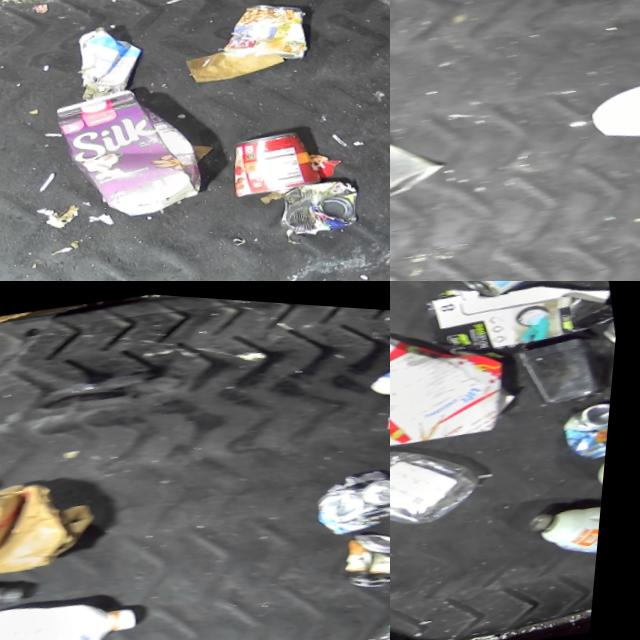can: (226, 115, 329, 196), (275, 163, 371, 236), (214, 0, 316, 67), (312, 451, 390, 533), (335, 511, 390, 589), (560, 386, 617, 456), (448, 281, 574, 298), (371, 345, 390, 434)
non_white_jug: (49, 67, 221, 226), (390, 414, 499, 544)
plastic_bottle: (0, 523, 42, 640), (316, 583, 390, 640)
